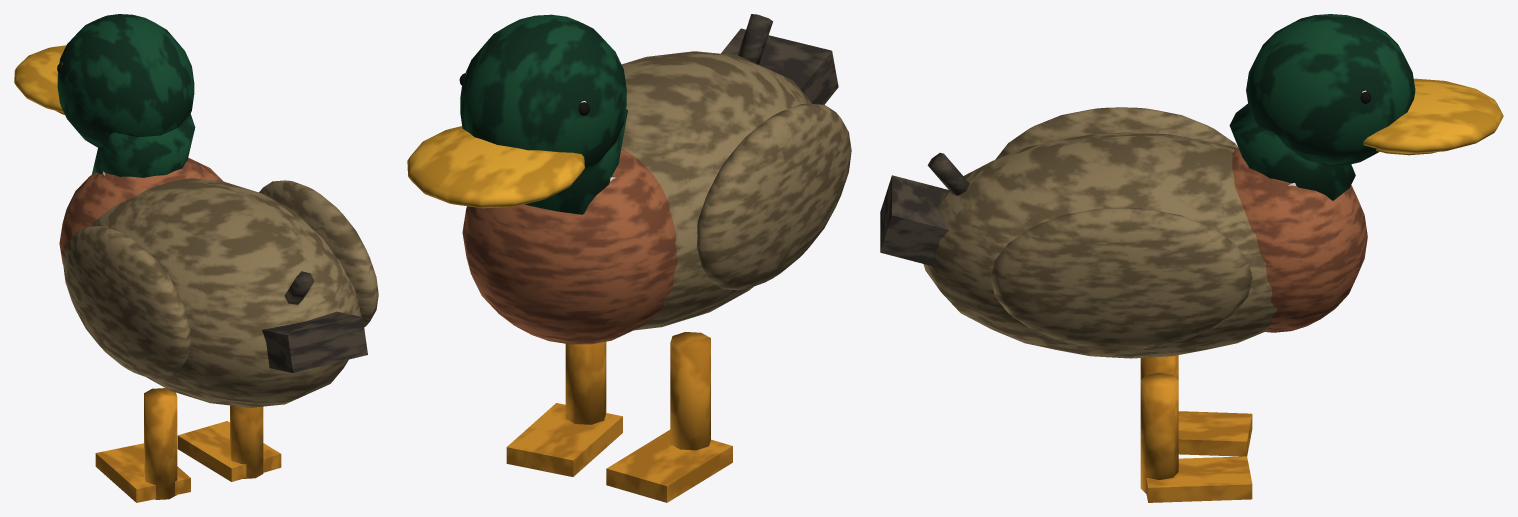
File: duck.glb
The picture shows the model from 3 angles, left to right: view 1: azimuth 30°, elevation 25°; view 2: azimuth 150°, elevation 25°; view 3: azimuth 270°, elevation 25°; orthographic projection. The views are drawn at different scales.
Parts seen in each view (by area): view 1: duck; view 2: duck; view 3: duck.
Boxes of the visible parts, x1,y1,x2,y2 form: duck: (14,14,378,502); duck: (407,14,851,502); duck: (880,14,1503,502).
Size of the model in its own units: 0.6292 by 1.03 by 1.31.
10 materials, 10 textured.
